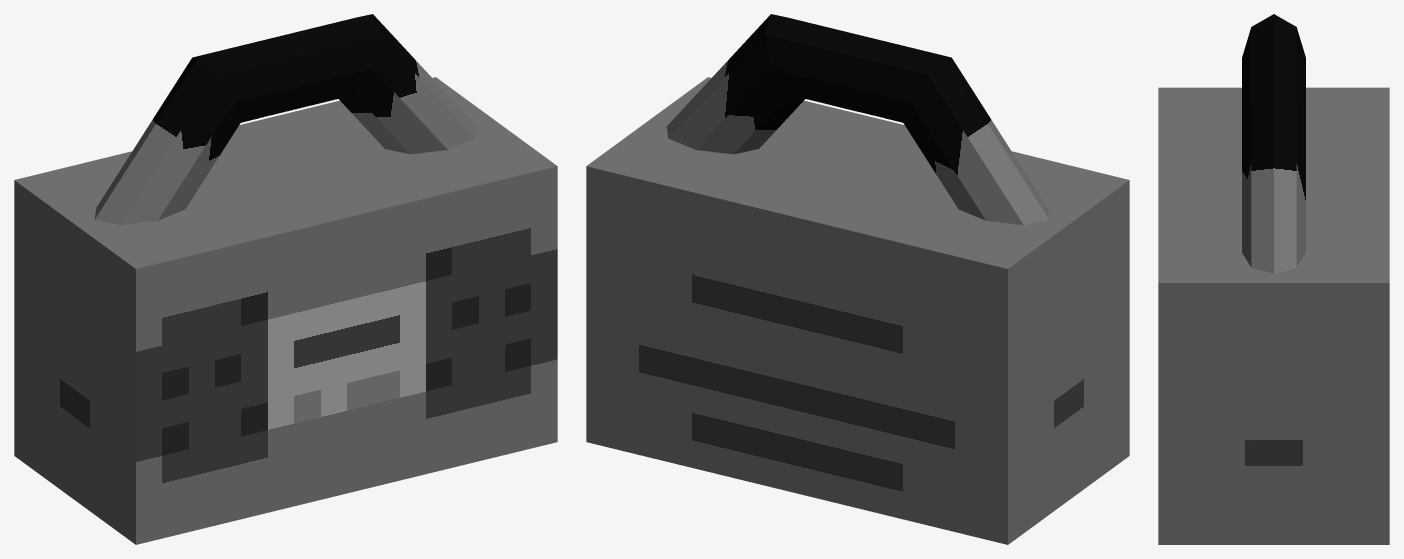
The model's file is boombox.gltf.
The picture shows the model from 3 angles, left to right: view 1: azimuth 30°, elevation 25°; view 2: azimuth 150°, elevation 25°; view 3: azimuth 270°, elevation 25°; orthographic projection. The views are drawn at different scales.
Visible parts, largest first — view 1: cuboid, torus; view 2: cuboid, torus; view 3: cuboid, torus.
Part boxes in pixels (bbox=[...]): cuboid: bbox=[14, 77, 557, 544]; torus: bbox=[94, 14, 477, 225]; cuboid: bbox=[586, 77, 1129, 544]; torus: bbox=[666, 14, 1049, 225]; cuboid: bbox=[1158, 87, 1389, 544]; torus: bbox=[1242, 14, 1305, 273].
Size of the model in its own units: 1 by 0.9375 by 0.5.
Materials: 1 (1 with a texture image).
